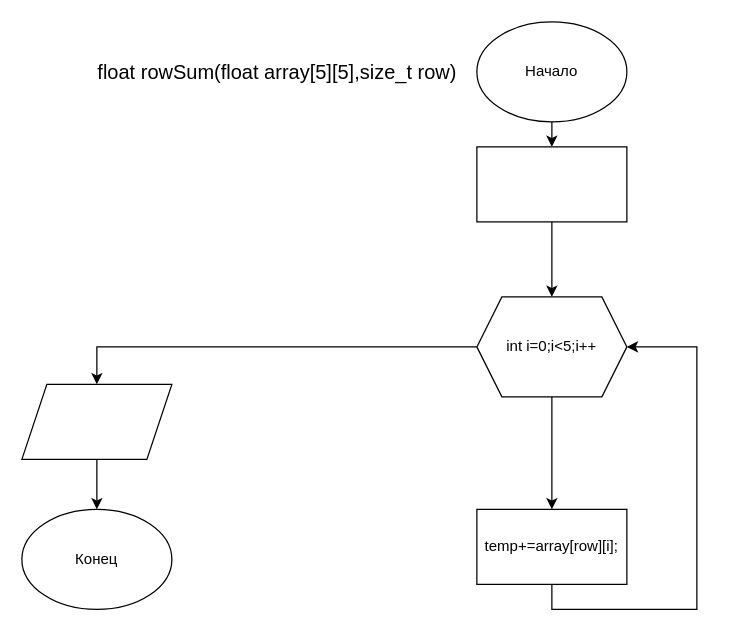
The diagram is 729 pixels wide and 641 high, and some of its shapes have lost their labels. The box of each missing label's shape, as (x1, y1, x2, y2) in pixels:
return temp: (21, 383, 172, 459)
temp = 0: (476, 146, 627, 222)
